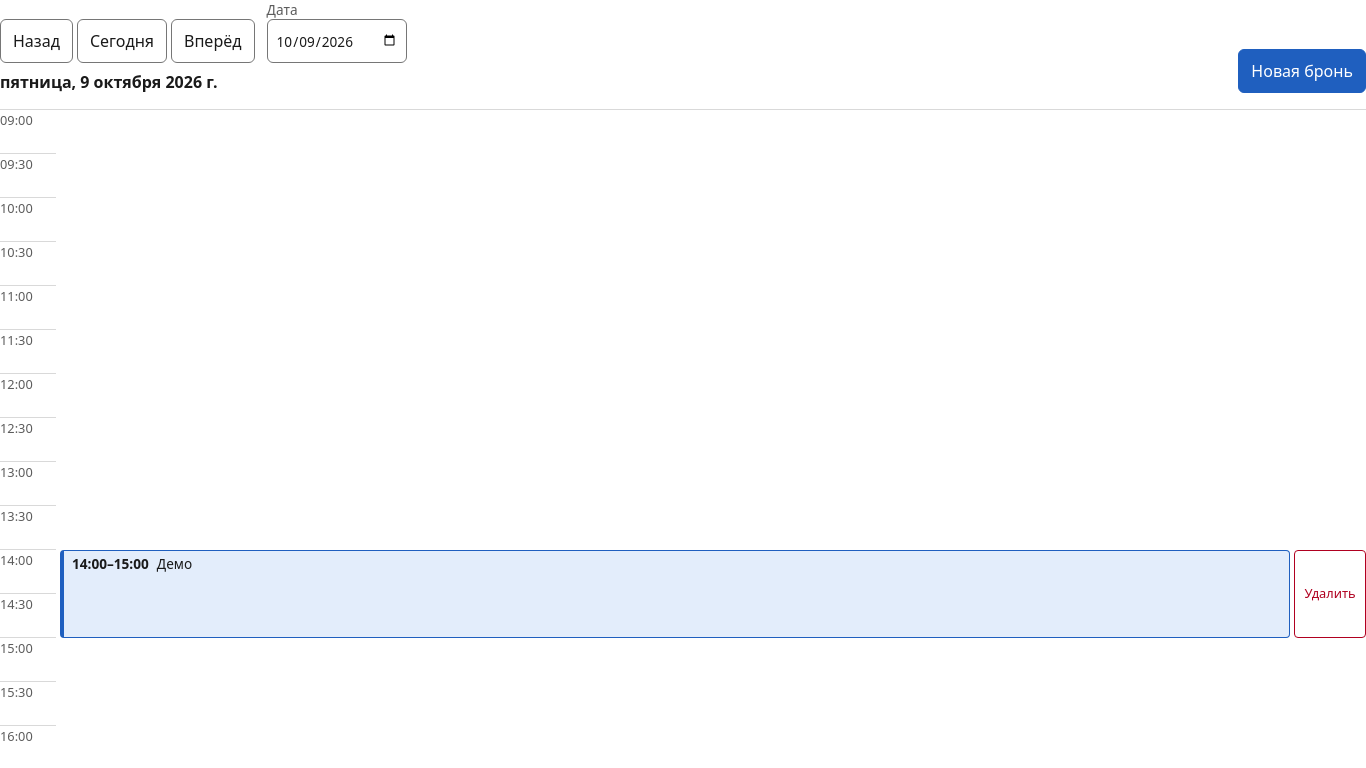
it: Удаление: отправка и исходы (F6, U3, U4, Q15) › F6, U4, A2: подтверждение → «Удаляем…» disabled, второй клик без второго DELETE; успех → диалог закрыт, list перезапрошен, брони нет, aria-live «Бронь удалена»,
Click the button with aria-label "Удалить бронь 14:00–15:00". click: (1330, 594)
box: [1294,550,1365,638]
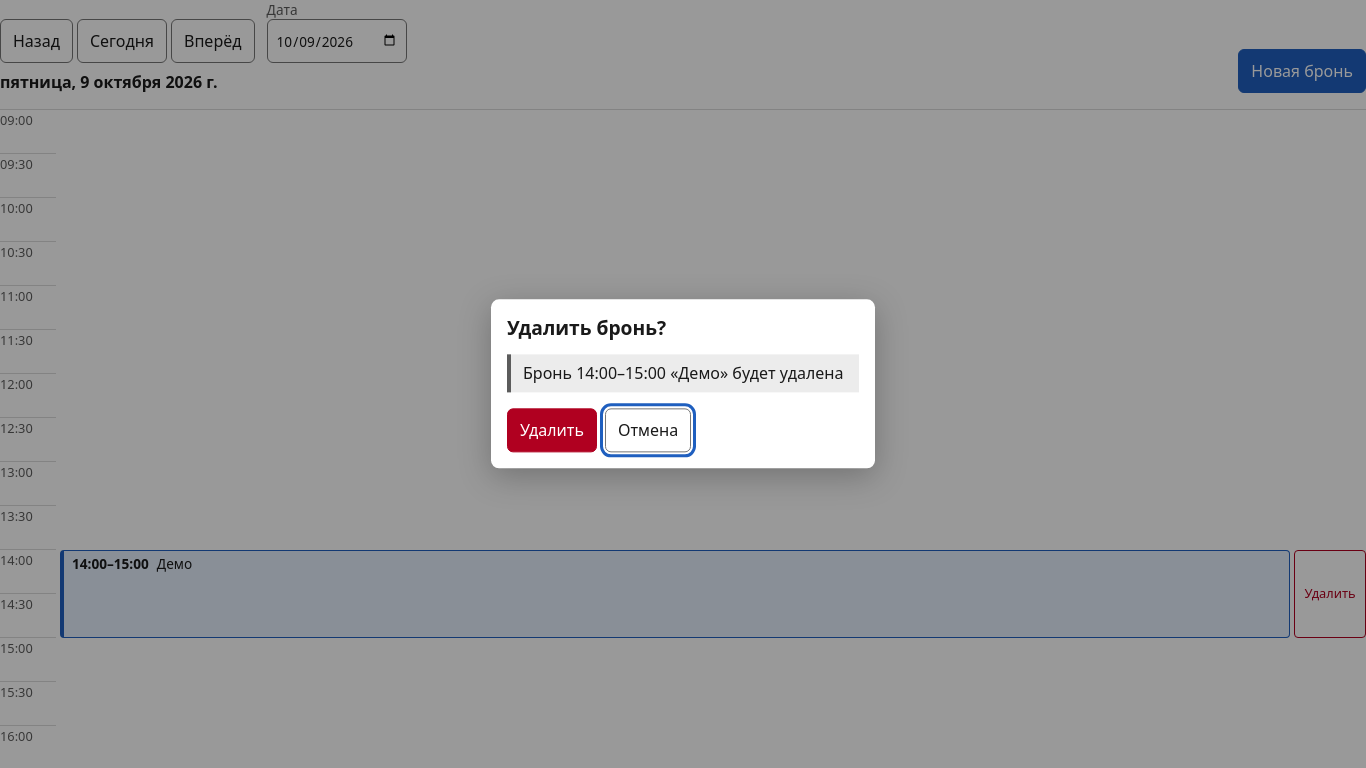
Expected: the dialog "Удалить бронь?" is shown, [491,299,875,469]
Click the button "Удалить". click: (552, 431)
box: [507,409,597,453]
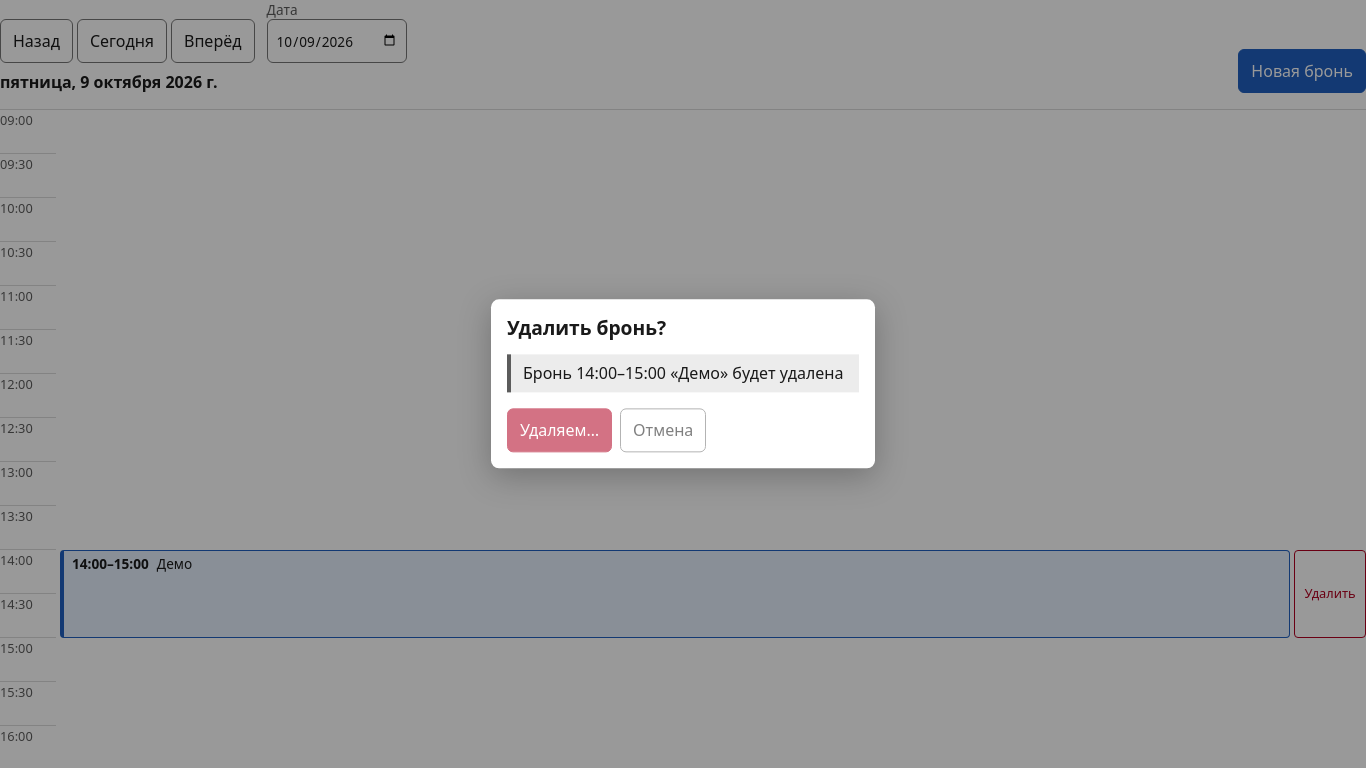
Expected: the button "Удаляем…" is disabled
Click the button "Удаляем…". click: (560, 431)
box: [507,409,612,453]
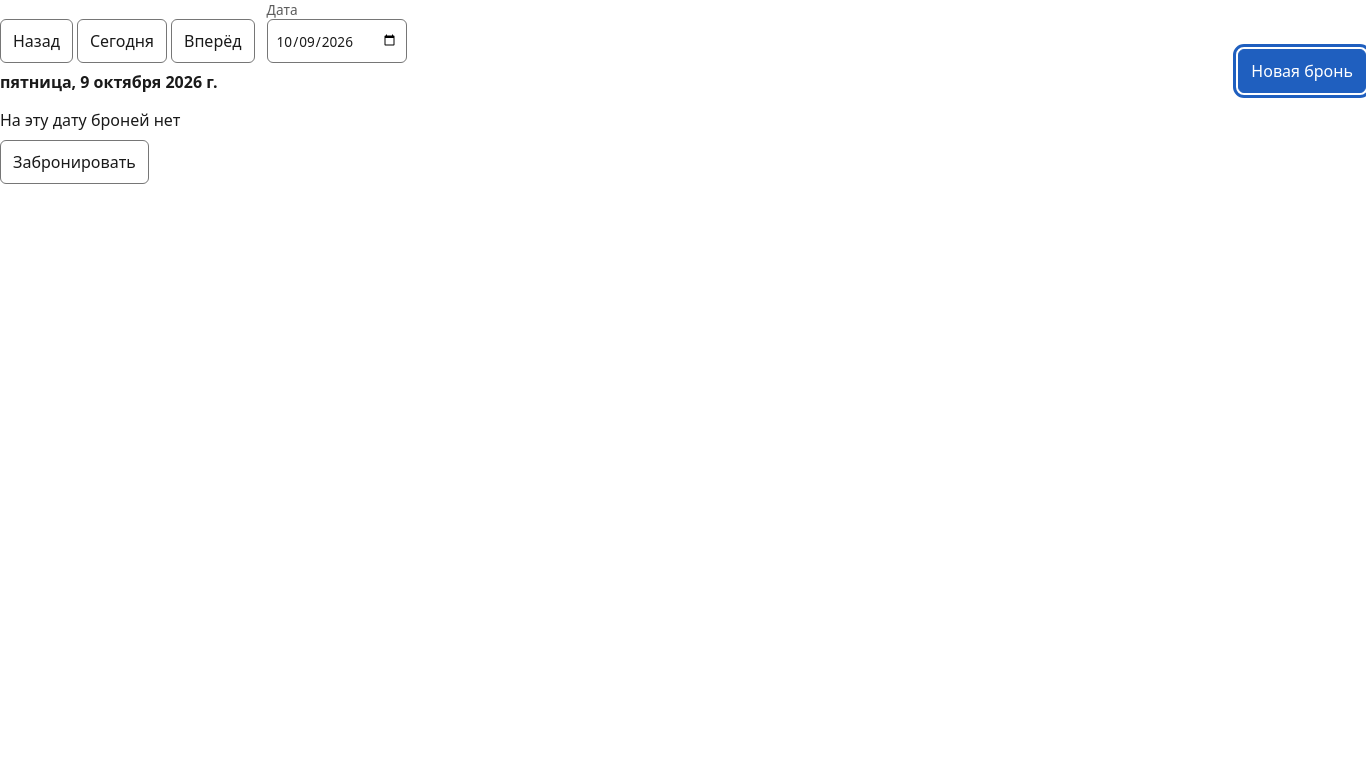
Expected: the dialog is gone
